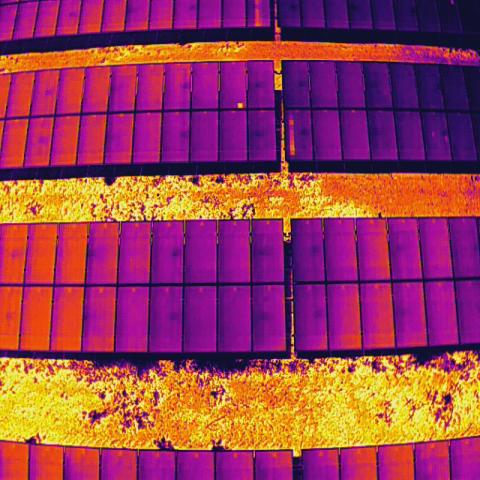fault: (236, 100, 244, 111)
